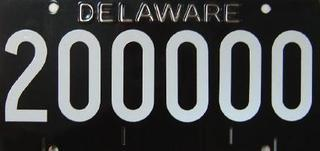placa de veiculo: (5, 0, 315, 148)
